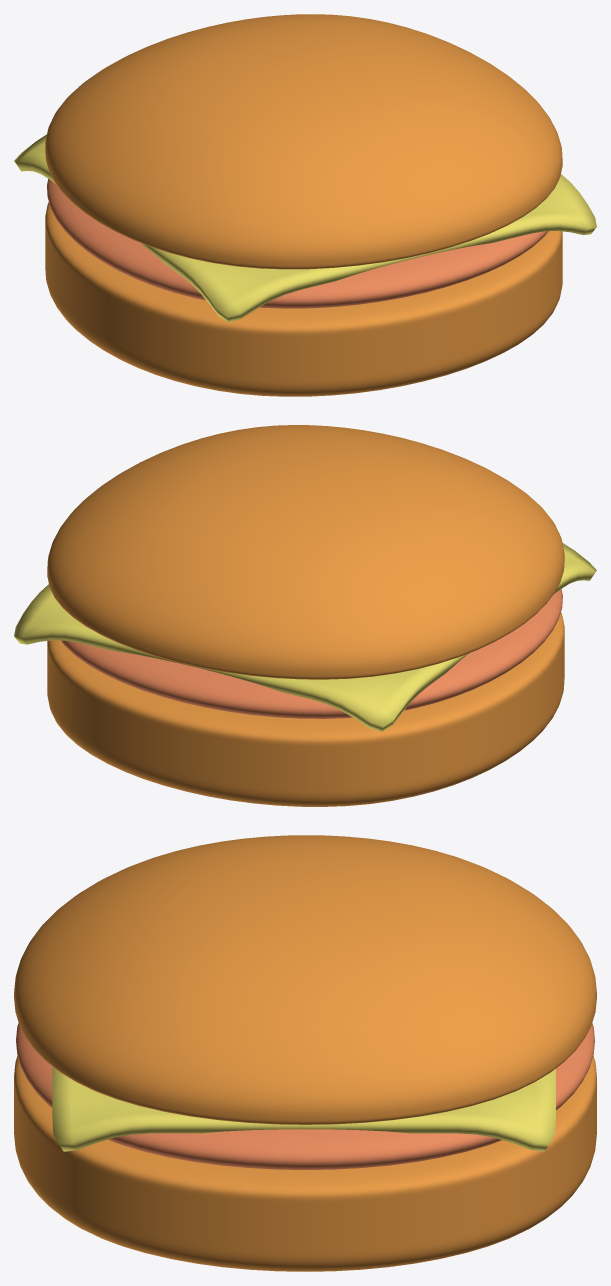
The model's file is hamburger.glb.
3 views of the same model, one above another, from view 1: azimuth 30°, elevation 25°; view 2: azimuth 150°, elevation 25°; view 3: azimuth 270°, elevation 25° (orthographic). The views are drawn at different scales.
Parts seen in each view (by area): view 1: Cube.002, Cube, Cube.001, Plane; view 2: Cube.002, Cube, Cube.001, Plane; view 3: Cube.002, Cube, Cube.001, Plane.
Boxes of the visible parts, x1,y1,x2,y2 form: Cube.002: (45,14,562,269); Cube: (45,202,562,396); Cube.001: (47,179,548,308); Plane: (14,134,596,322); Cube.002: (47,425,564,679); Cube: (47,612,564,806); Cube.001: (61,589,562,718); Plane: (14,543,596,731); Cube.002: (14,835,596,1124); Cube: (14,1055,596,1271); Cube.001: (16,1023,594,1169); Plane: (52,1066,555,1151).
Size of the model in its own units: 9.15 by 5.01 by 9.15.
